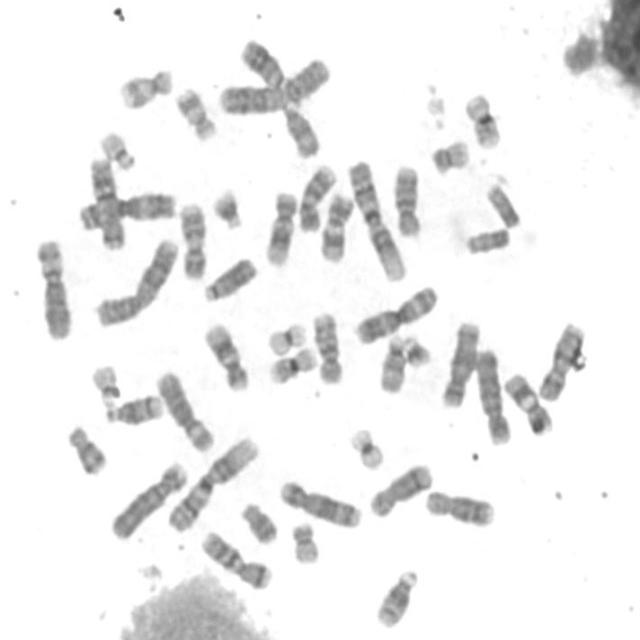A1: (162, 430, 262, 534), (343, 154, 409, 284)
A2: (90, 232, 181, 328), (213, 50, 333, 115)
A3: (351, 278, 442, 346), (74, 185, 180, 232)
B4: (104, 455, 191, 543), (472, 342, 514, 447)
B5: (275, 474, 364, 530), (436, 316, 483, 410)
C10: (307, 306, 346, 386), (388, 158, 424, 240)
C11: (500, 368, 554, 437), (316, 188, 355, 264)
C12: (198, 316, 252, 394), (260, 185, 299, 268)
C6: (151, 364, 217, 454), (30, 232, 76, 342)
C7: (196, 525, 274, 592), (82, 150, 128, 252)
C8: (364, 457, 435, 519), (421, 484, 497, 529)
C9: (294, 158, 338, 234), (173, 196, 210, 282)
D13: (198, 250, 260, 304), (236, 33, 288, 90)
D14: (370, 563, 421, 630), (101, 388, 165, 426)
D15: (374, 330, 408, 396), (460, 222, 513, 256)
E16: (460, 86, 504, 150), (263, 340, 319, 386)
E17: (114, 61, 175, 111), (171, 81, 219, 143)
E18: (61, 418, 109, 476), (236, 496, 280, 546)
F19: (346, 422, 388, 472), (263, 316, 309, 356)
F20: (426, 133, 472, 176), (287, 517, 322, 566)
G21: (207, 182, 245, 232), (398, 328, 434, 369)
G22: (94, 124, 138, 171), (86, 358, 122, 408)
X: (533, 316, 588, 404)
Y: (481, 178, 524, 230)
